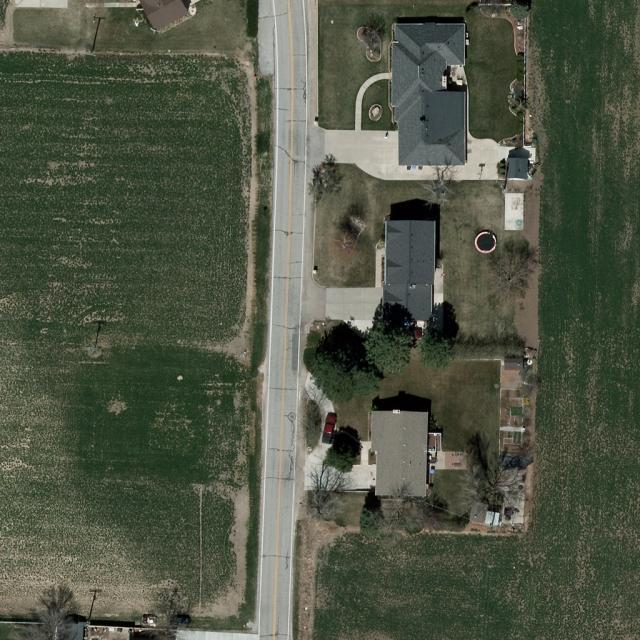vehicle: (388, 328, 424, 340), (322, 414, 336, 444)
